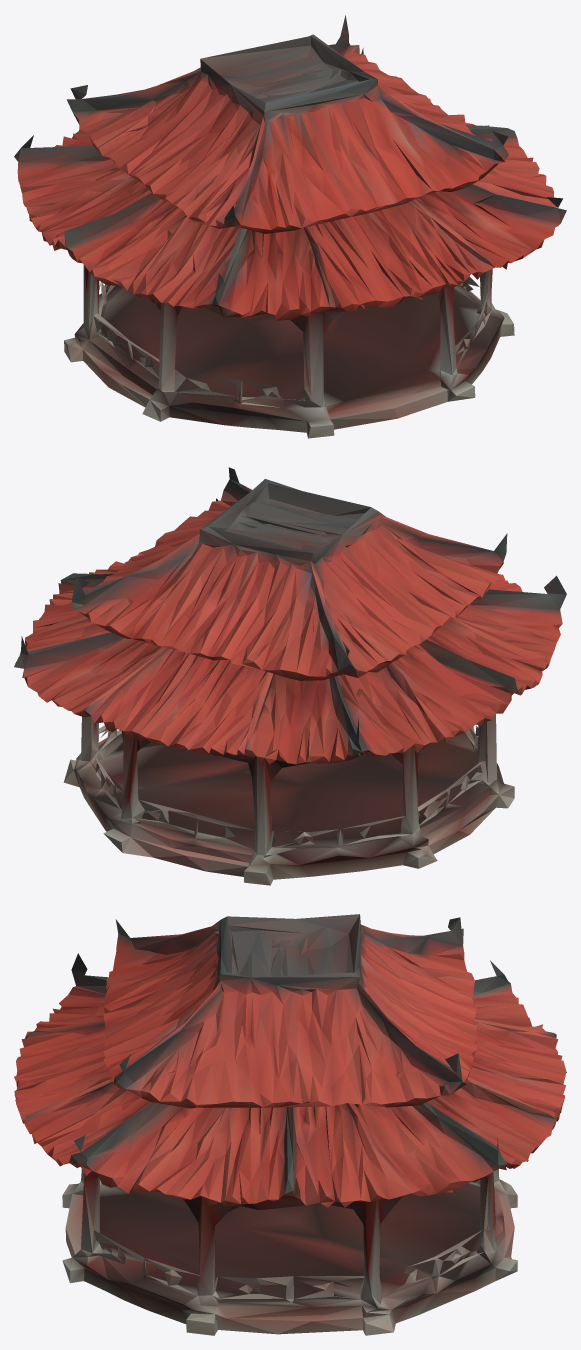
File: lib_garden_pav.vc.glb
3 renders of one model, top to bottom at view 1: azimuth 30°, elevation 25°; view 2: azimuth 150°, elevation 25°; view 3: azimuth 270°, elevation 25°, orthographic. The views are drawn at different scales.
Parts seen in each view (by area): view 1: lib_garden_pav; view 2: lib_garden_pav; view 3: lib_garden_pav.
Part boxes in pixels (box(x1,y1,x2,y2)): lib_garden_pav: box(14, 15, 566, 438); lib_garden_pav: box(14, 467, 566, 885); lib_garden_pav: box(14, 914, 566, 1335).
Bounding box in the file's own units: 1.99 × 1.15 × 1.95.
